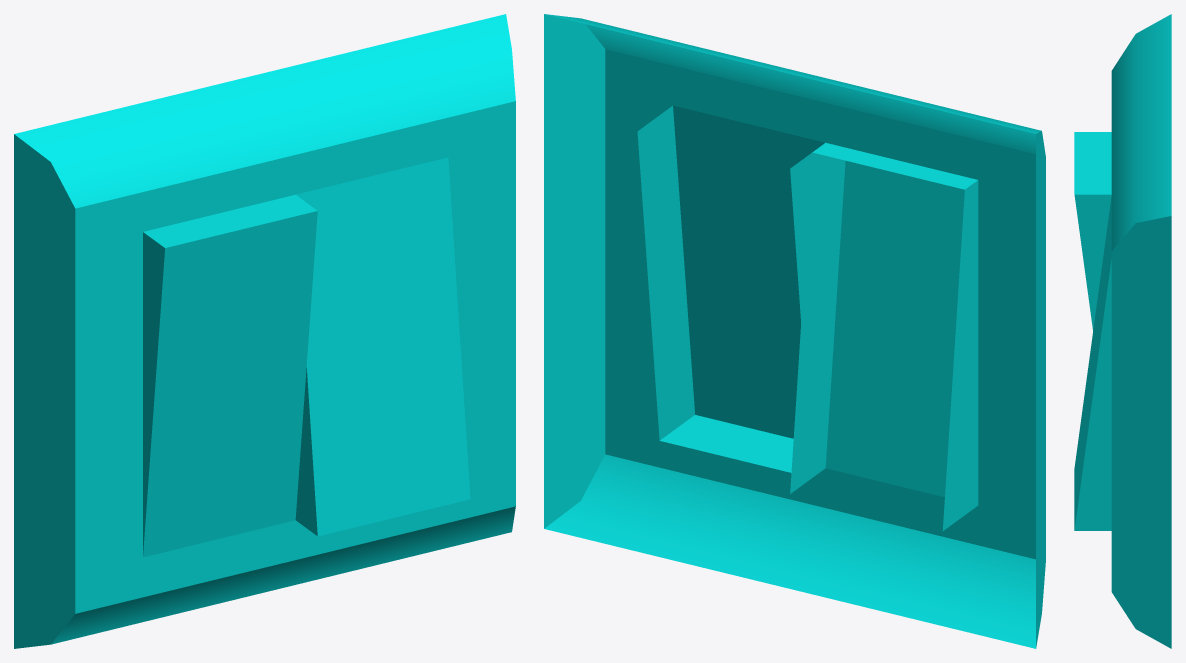
The model's file is classroomButtons.fbx.
3 renders of one model, left to right at view 1: azimuth 30°, elevation 25°; view 2: azimuth 150°, elevation 25°; view 3: azimuth 270°, elevation 25°, orthographic. The views are drawn at different scales.
Parts seen in each view (by area): view 1: classroom_buttons; view 2: classroom_buttons; view 3: classroom_buttons.
Part boxes in pixels (x1,y1,x2,y2): classroom_buttons: (14, 14, 515, 648); classroom_buttons: (544, 14, 1045, 648); classroom_buttons: (1074, 14, 1171, 648).
Bounding box in the file's own units: 8 × 8 × 1.62.
